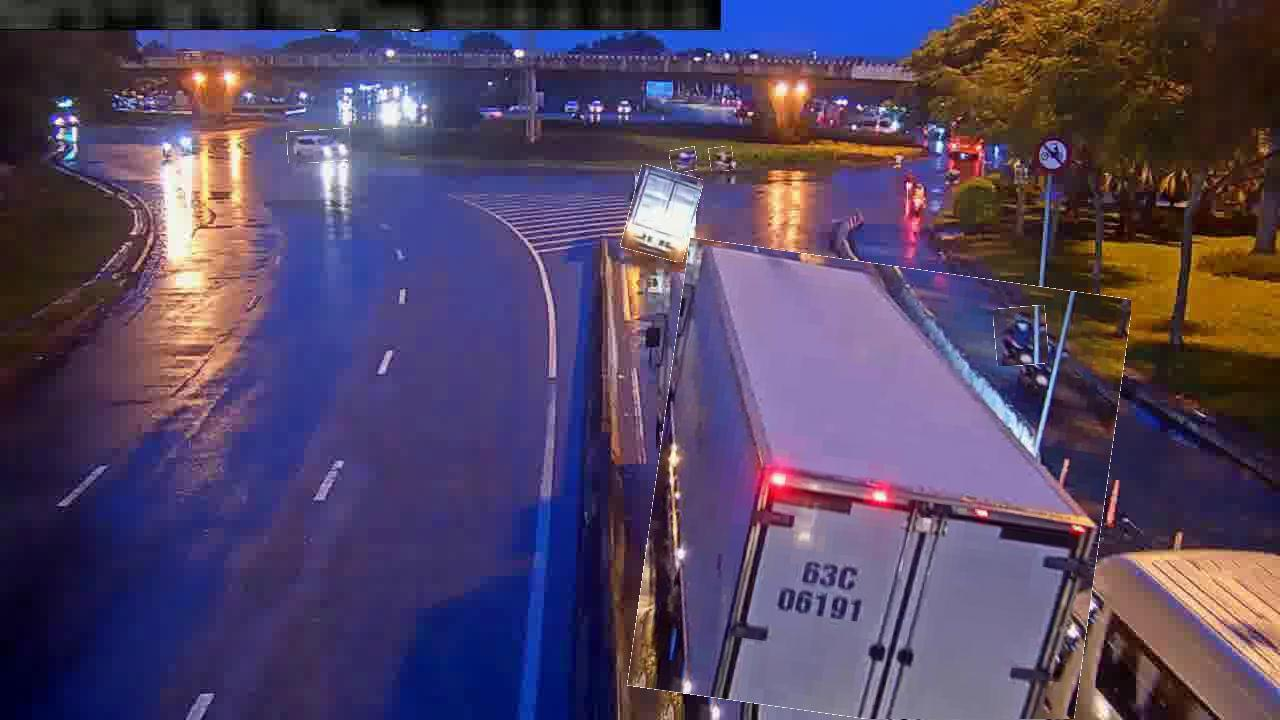8: (641, 252, 1118, 719), (625, 168, 699, 260)
container: (287, 129, 351, 163)
motorbike: (994, 306, 1048, 366), (907, 182, 928, 218), (670, 147, 698, 172), (709, 146, 734, 172)
